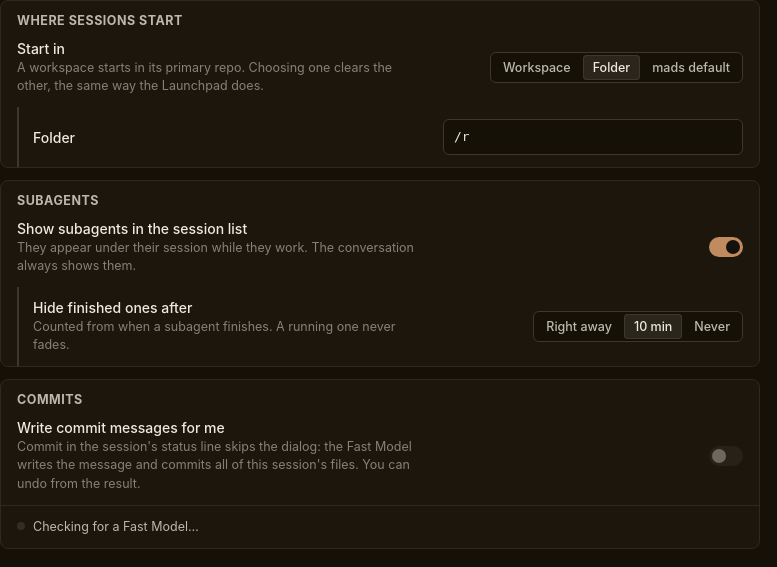
Scenario: SessionsSection › Start in › an empty segment choice is not an unsaved change
This screenshot has width=777, height=567.
Click the radio button labelled "Workspace": (537, 68) [493,55,581,80]
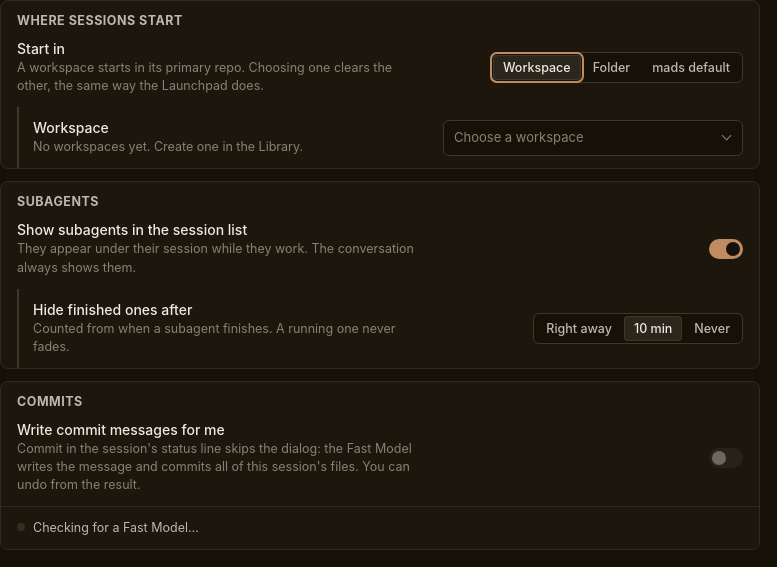
Click the radio button labelled "Folder": (611, 68) [583,55,640,80]
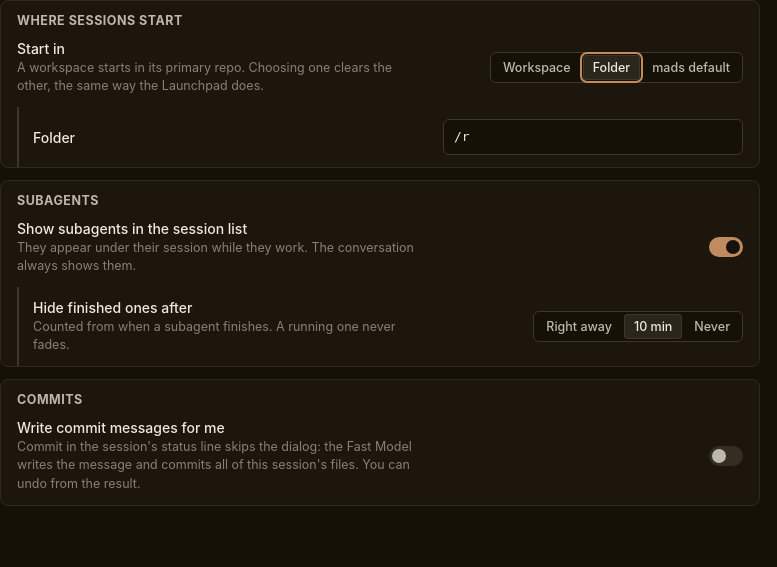
Expected: the field labelled "Folder" holds "/r", [443,119,743,155]
